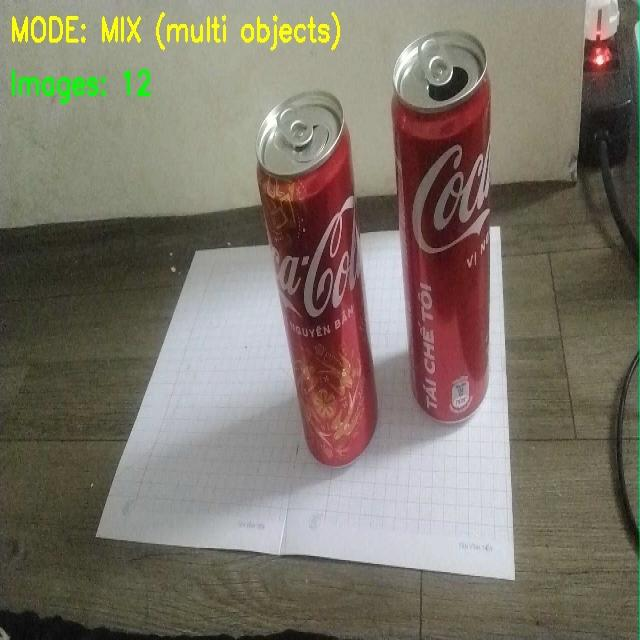Coca: (232, 83, 382, 467)
Coca_open: (392, 19, 522, 429)
